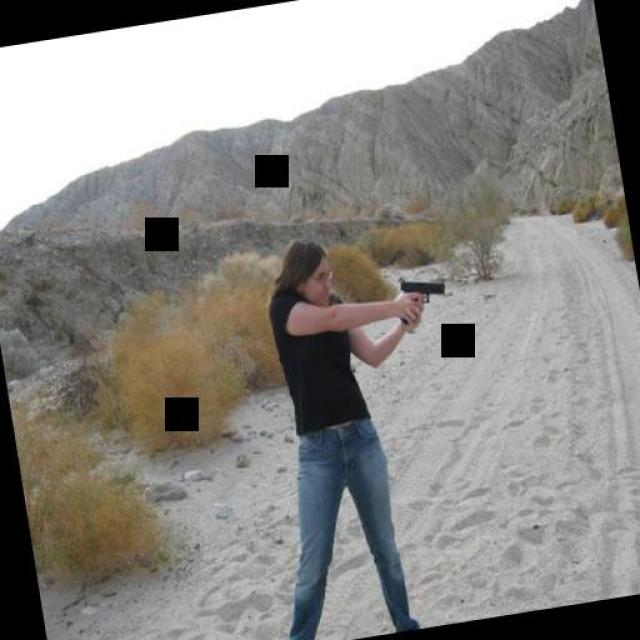gun: (390, 270, 451, 332)
